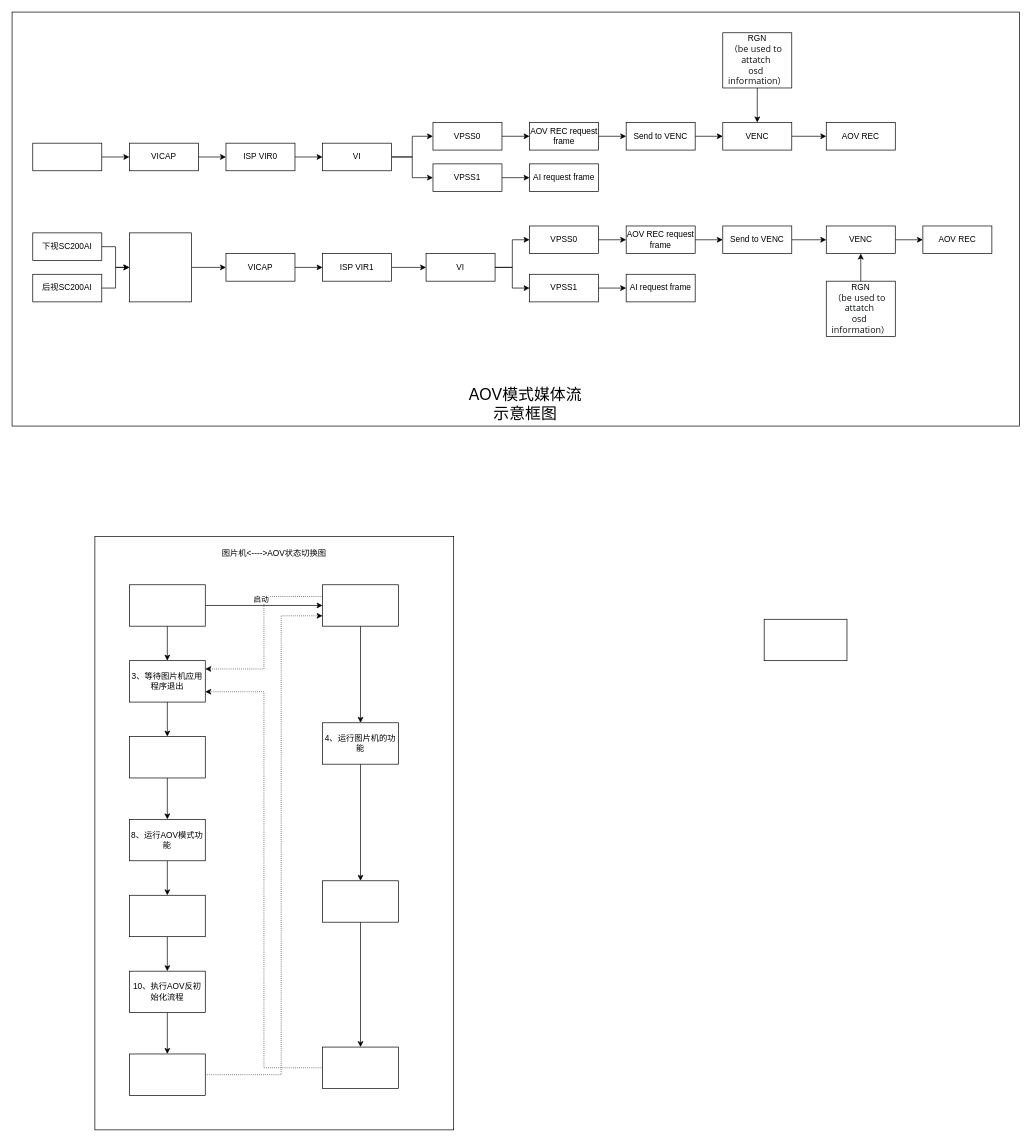
Image size: 1032x1142. Some labels were removed from this diagram. Here are the shapes that lost their labels. From the top down, the centre of each, then its label:
At (x=67, y=156): "前视SC200AI".
At (x=160, y=267): "MIPI选择芯片".
At (x=167, y=605): "1、AOV应用程序wkMdMngr".
At (x=360, y=605): "2、图片机应用程序 sctrl".
At (x=167, y=757): "7、AOV初始化".
At (x=167, y=916): "9、等待接收MCU唤醒信号".
At (x=360, y=901): "5、图片机执行休眠流程".
At (x=167, y=1074): "11、回到第2步启动sctrl，并传递唤醒原因".
At (x=360, y=1067): "6、反初始化sctrl进程，保证媒体层的资源正确释放。".
